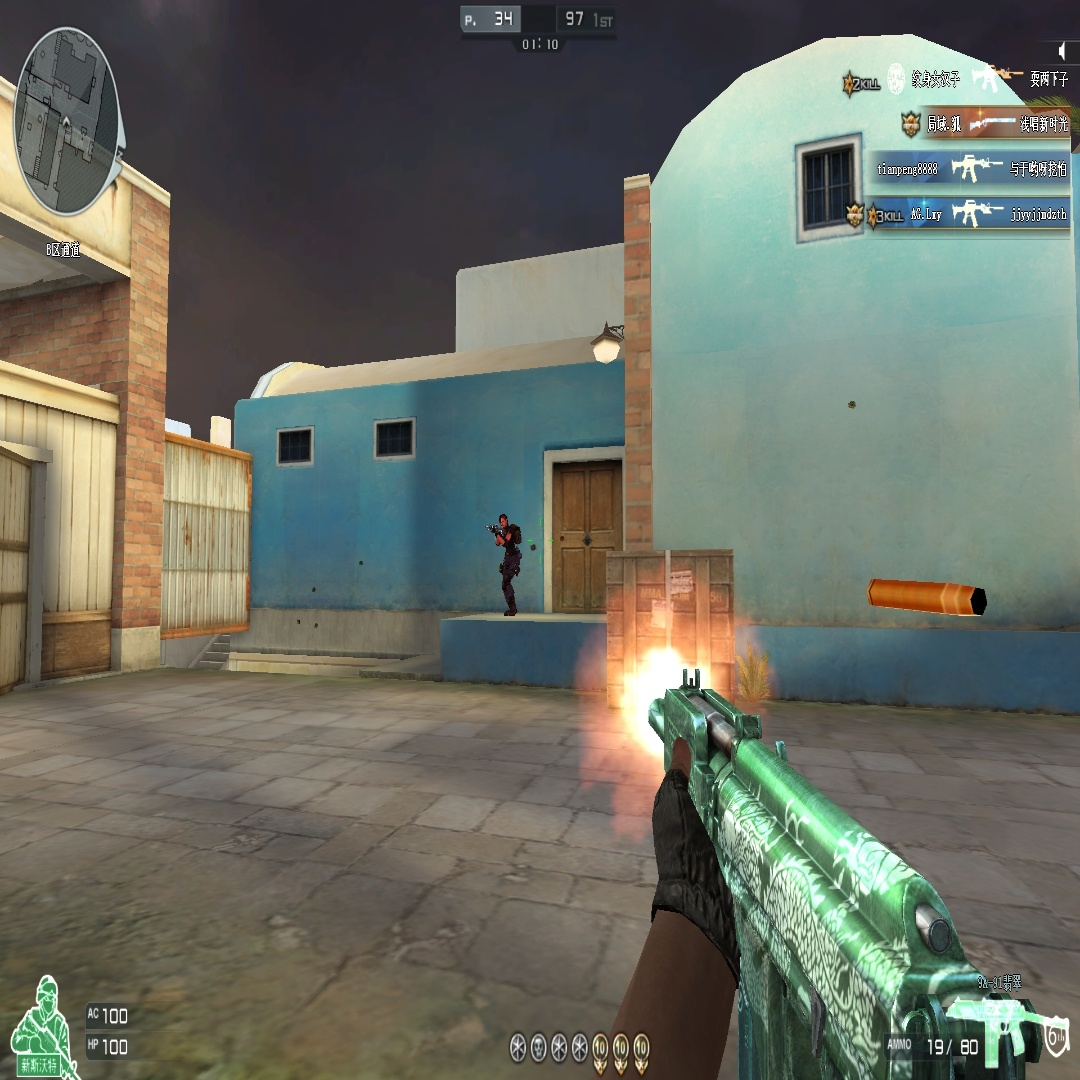p: (487, 514, 522, 614)
